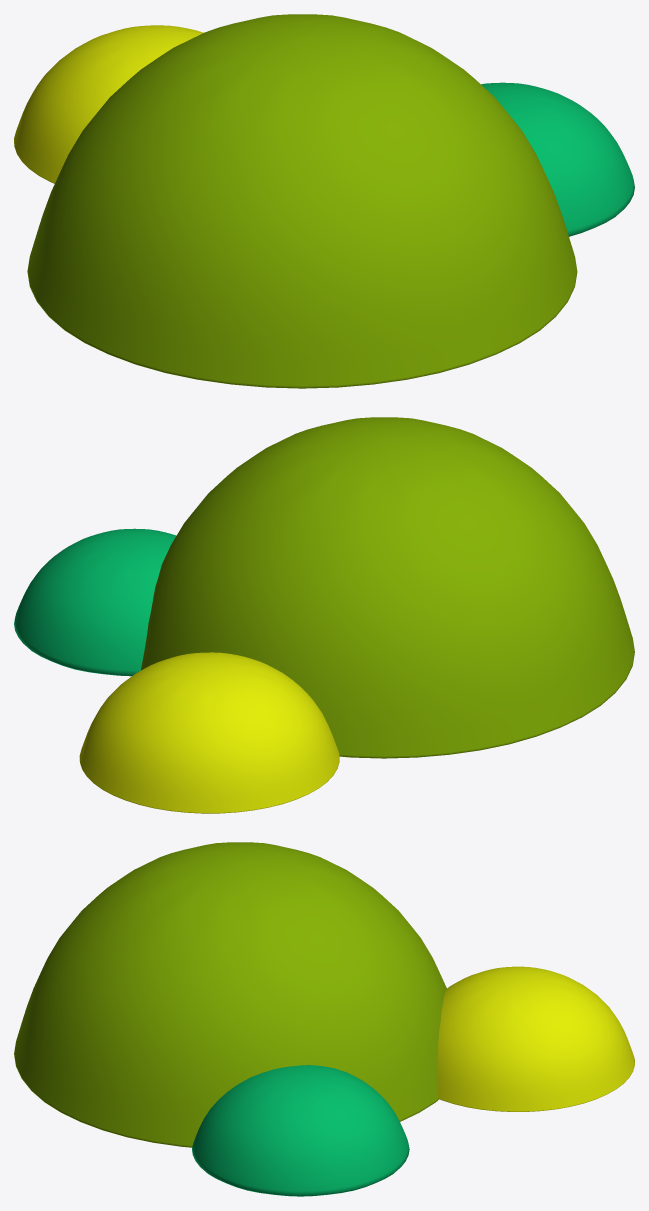
The model's file is l_pagorek_1.fbx.
The picture shows the model from 3 angles, top to bottom: view 1: azimuth 30°, elevation 25°; view 2: azimuth 150°, elevation 25°; view 3: azimuth 270°, elevation 25°; orthographic projection. The views are drawn at different scales.
Visible parts, largest first — view 1: krzak5; view 2: krzak5; view 3: krzak5.
Part boxes in pixels (bbox=[...]): krzak5: bbox=[14, 14, 634, 388]; krzak5: bbox=[14, 417, 634, 813]; krzak5: bbox=[14, 842, 634, 1196].
Size of the model in its own units: 1467 by 562 by 1626.
